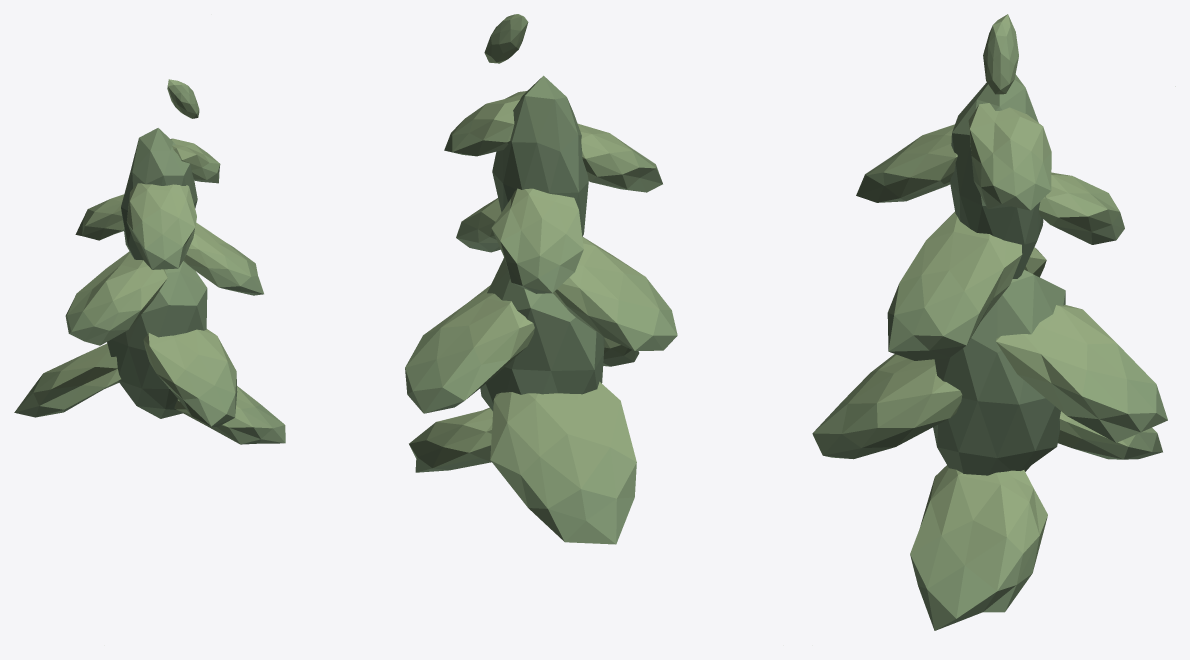
The model's file is Cedar_leaf.glb.
3 views of the same model, side by side, from view 1: azimuth 30°, elevation 25°; view 2: azimuth 150°, elevation 25°; view 3: azimuth 270°, elevation 25° (orthographic). The views are drawn at different scales.
Parts seen in each view (by area): view 1: Cedar_leaf; view 2: Cedar_leaf; view 3: Cedar_leaf.
Part boxes in pixels (box(x1,y1,x2,y2)): Cedar_leaf: box(14, 79, 285, 444); Cedar_leaf: box(405, 14, 677, 544); Cedar_leaf: box(812, 14, 1175, 630).
Bounding box in the file's own units: 9.37 × 19.01 × 8.61.
